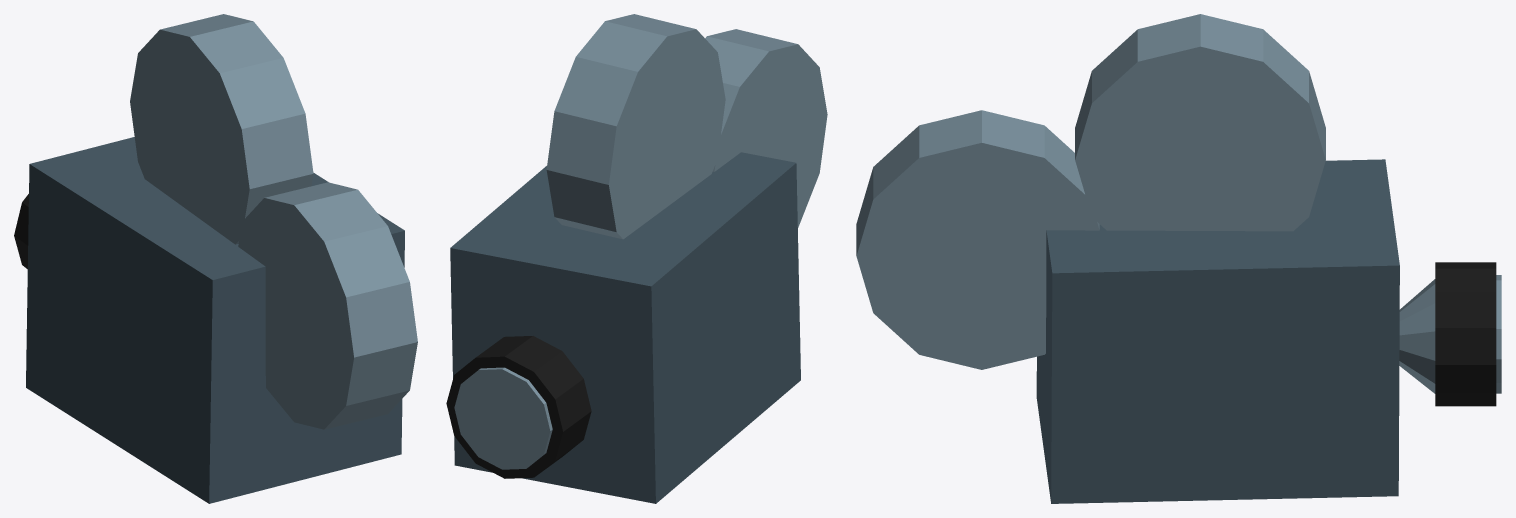
The model's file is camera.glb.
The picture shows the model from 3 angles, left to right: view 1: azimuth 30°, elevation 25°; view 2: azimuth 150°, elevation 25°; view 3: azimuth 270°, elevation 25°; orthographic projection. The views are drawn at different scales.
Visible parts, largest first — view 1: group1064511980, group578873317, group694323100, group1605139574; view 2: group1064511980, group694323100, group578873317, group1605139574, group2000811360; view 3: group1064511980, group694323100, group578873317, group1605139574, group1500837857, group2000811360.
Part boxes in pixels (box(x1,y1,x2,y2)): group1064511980: box(26, 137, 404, 503); group578873317: box(238, 182, 417, 429); group694323100: box(130, 14, 313, 244); group1605139574: box(14, 194, 28, 268); group1064511980: box(450, 152, 800, 503); group694323100: box(546, 14, 725, 239); group578873317: box(705, 29, 827, 227); group1605139574: box(446, 336, 591, 478); group2000811360: box(454, 367, 552, 469); group1064511980: box(1036, 159, 1399, 503); group694323100: box(1075, 14, 1325, 231); group578873317: box(856, 110, 1099, 369); group1605139574: box(1435, 262, 1496, 406); group1500837857: box(1399, 279, 1435, 393); group2000811360: box(1496, 275, 1501, 393).
Bounding box in the file's own units: 0.83 × 1.44 × 2.01.
